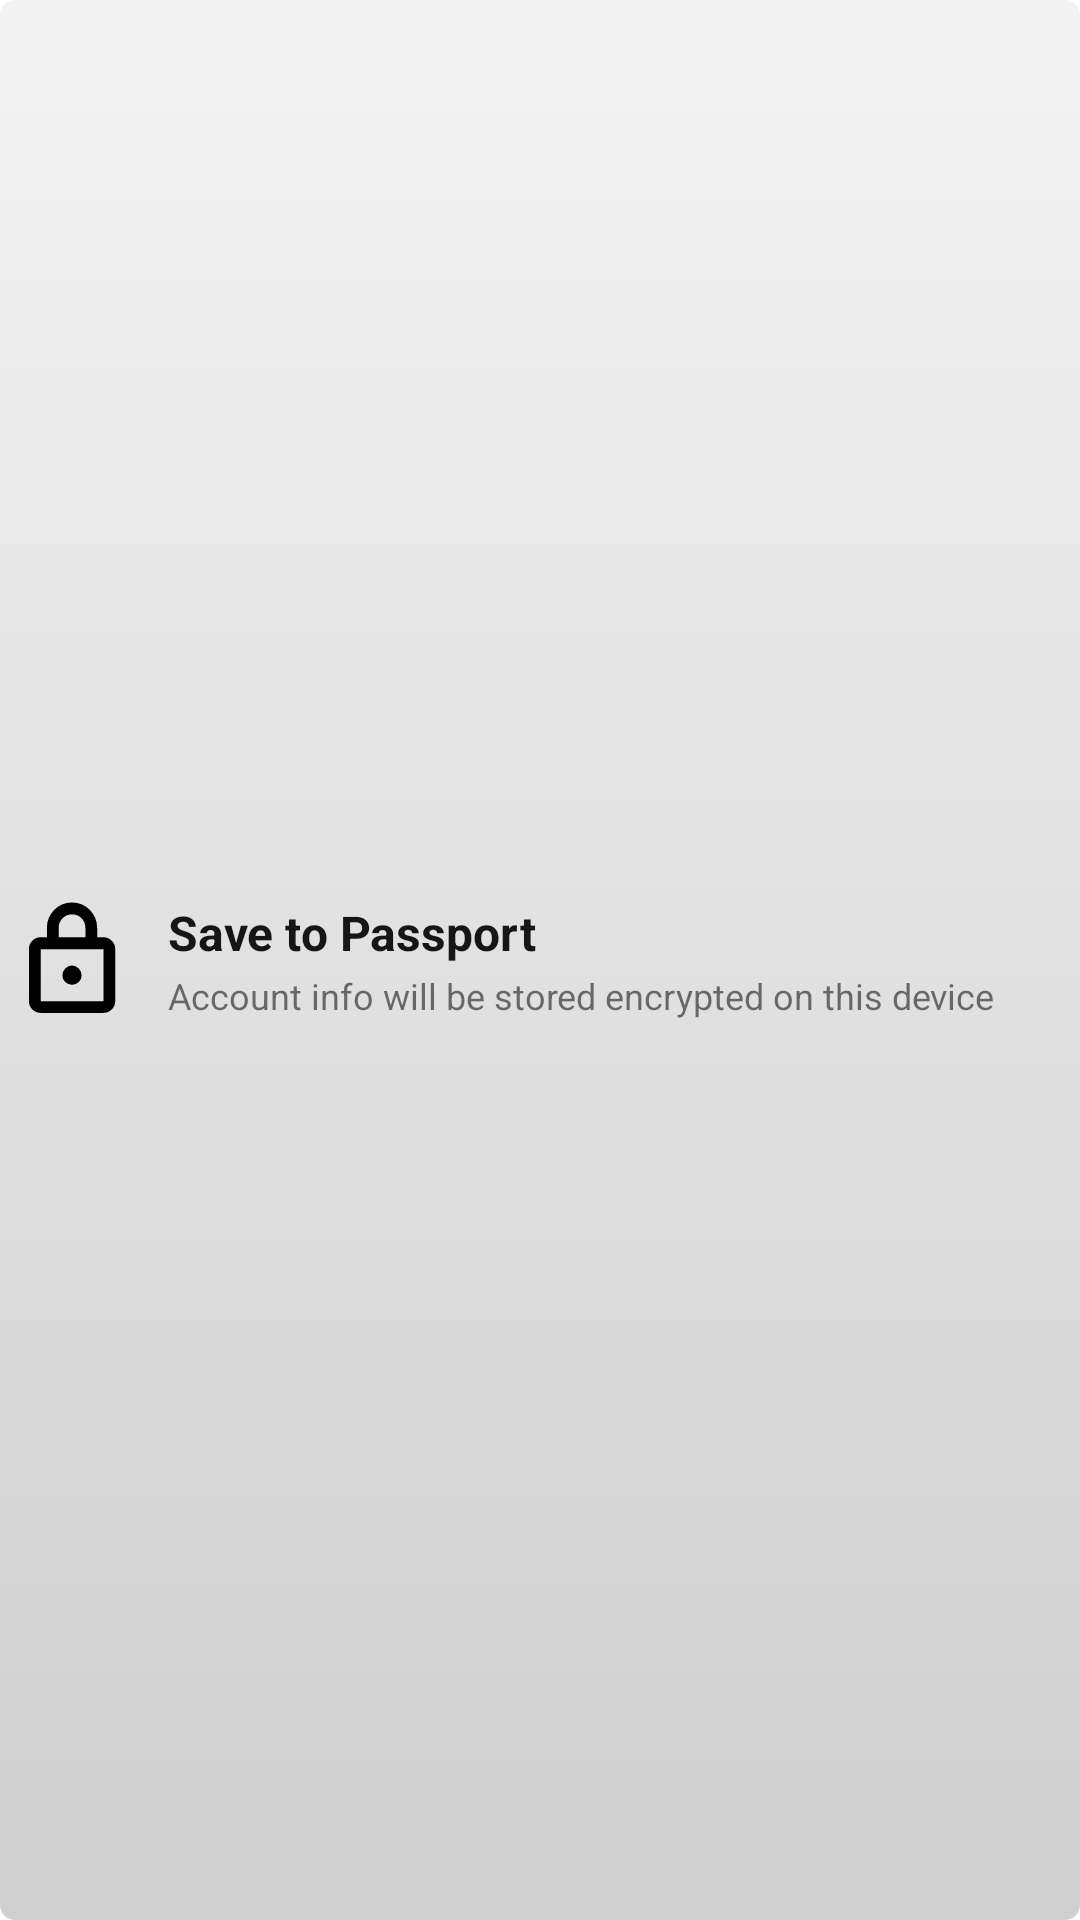

Screen size 1080px x 1920px. Icon name, then its box in pixels as [x1, y1, x2, y2]:
lock: [29, 902, 116, 1013]
